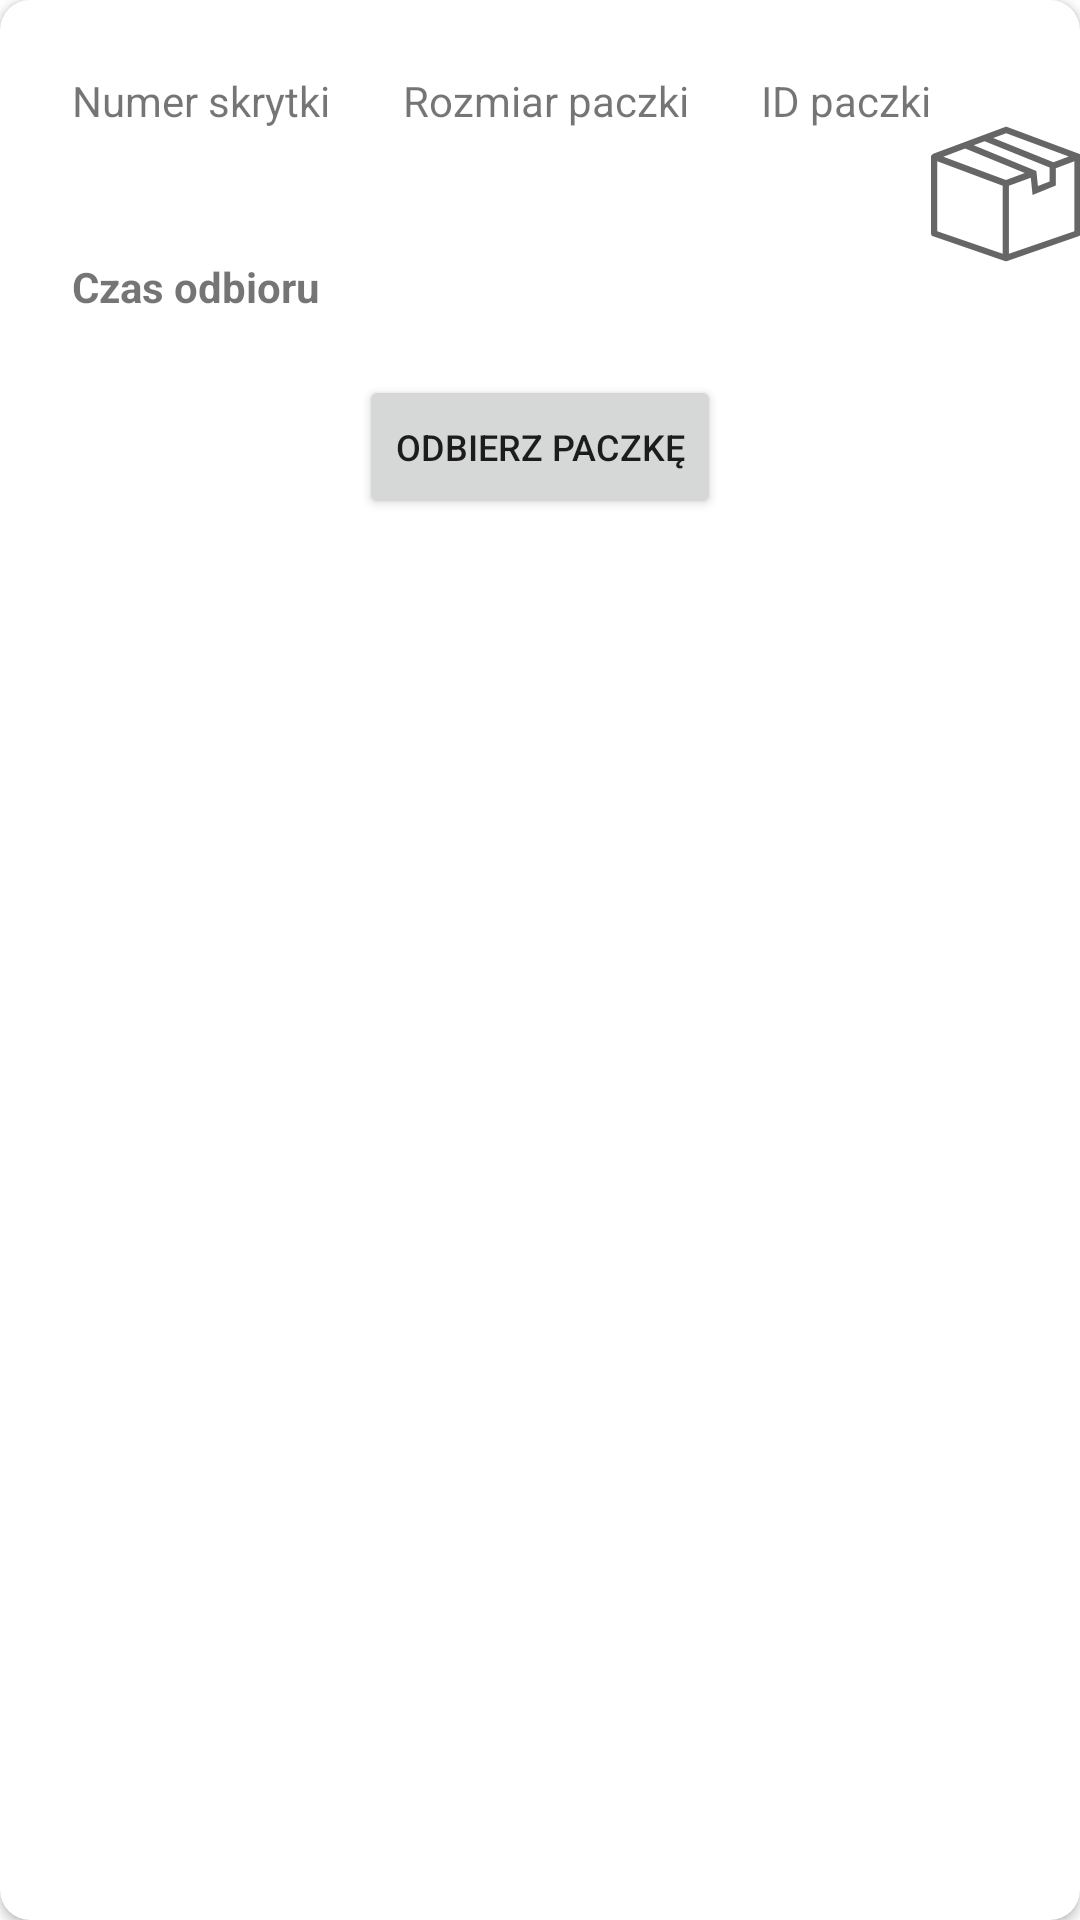

Icon bounding boxes for this 1080×1920 phone screenshot, format (x1, y1, x2, y2):
package: (931, 126, 1080, 262)
